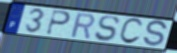3: (24, 8, 46, 35)
C: (118, 17, 145, 46)
P: (45, 9, 73, 37)
R: (70, 12, 96, 40)
S: (142, 19, 169, 48), (94, 15, 121, 42)
